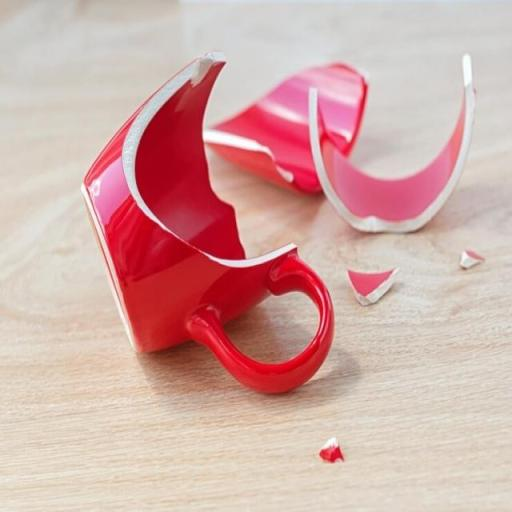glass: (62, 30, 339, 406), (310, 51, 478, 232), (205, 62, 366, 196), (346, 264, 398, 306)
